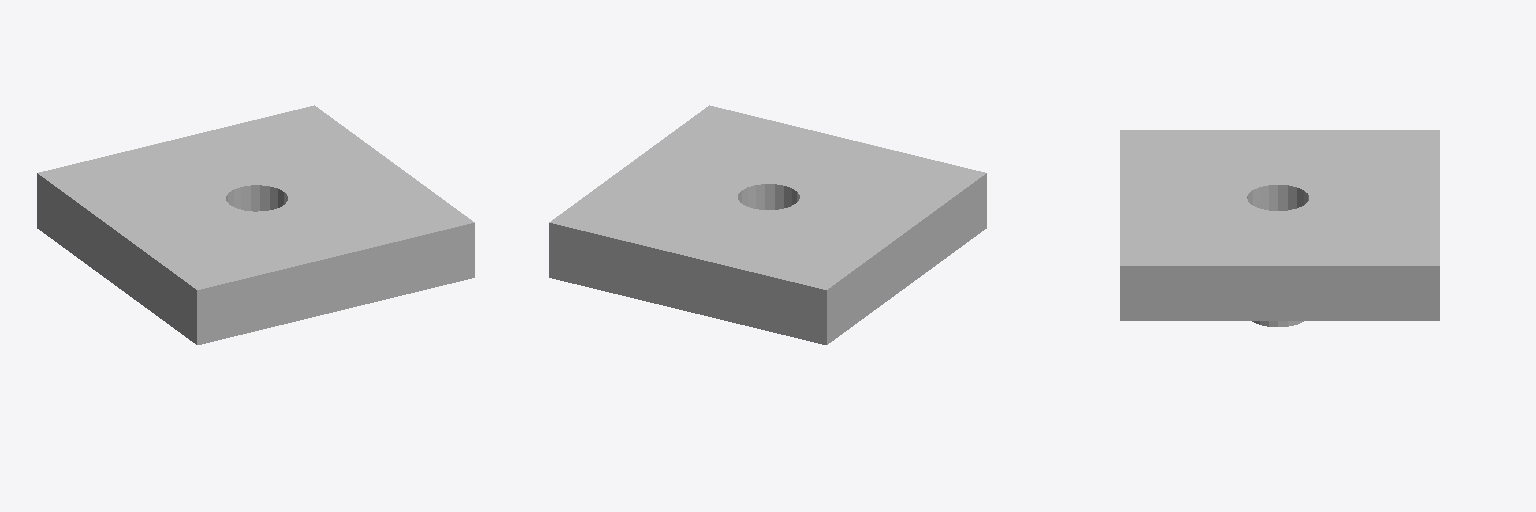
Rendered from holeCollider.obj.
3 views of the same model, side by side, from view 1: azimuth 30°, elevation 25°; view 2: azimuth 150°, elevation 25°; view 3: azimuth 270°, elevation 25° (orthographic).
Parts seen in each view (by area): view 1: holeCollider; view 2: holeCollider; view 3: holeCollider.
Part boxes in pixels (left/top/right/bottom): holeCollider: left=37, top=105, right=474, bottom=344; holeCollider: left=549, top=105, right=986, bottom=344; holeCollider: left=1120, top=130, right=1439, bottom=326.
Size of the model in its own units: 1 by 0.4005 by 1.